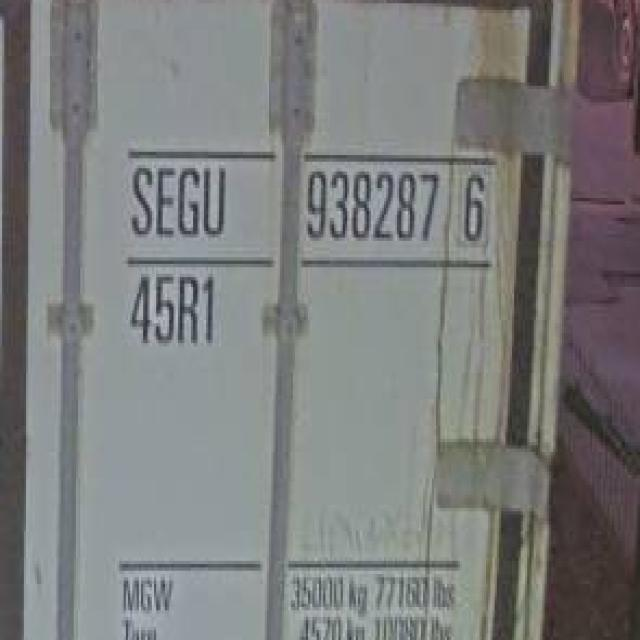dv: (459, 162, 488, 252)
owner: (128, 157, 230, 250)
serial: (303, 164, 444, 247)
size: (125, 271, 217, 350)
